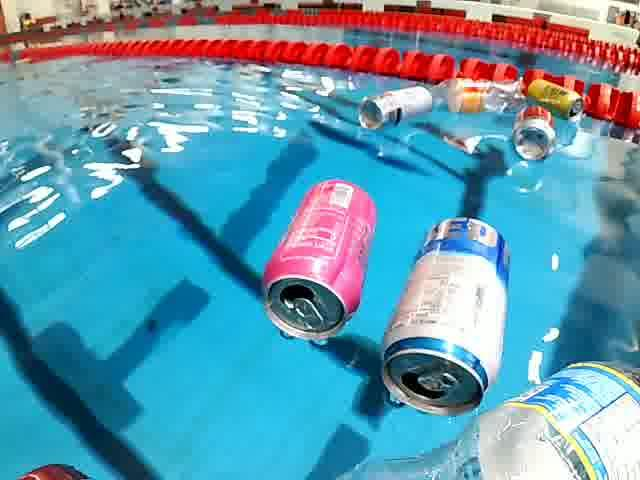Bottle: (322, 347, 639, 480), (422, 76, 527, 118)
Can: (380, 213, 516, 422), (248, 176, 385, 346), (352, 83, 438, 136), (508, 102, 559, 170), (525, 78, 586, 122)
